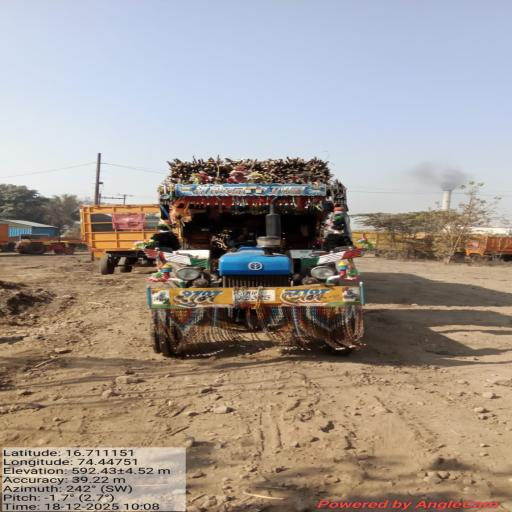number_plate: (222, 286, 283, 312)
